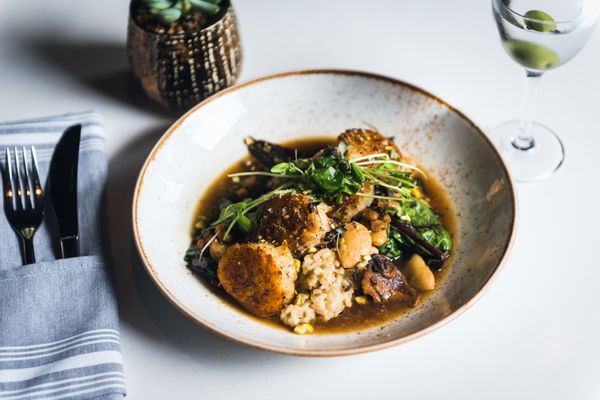curry: (269, 145, 365, 205)
sandwich: (44, 123, 82, 259)
sushi: (129, 68, 517, 357)
